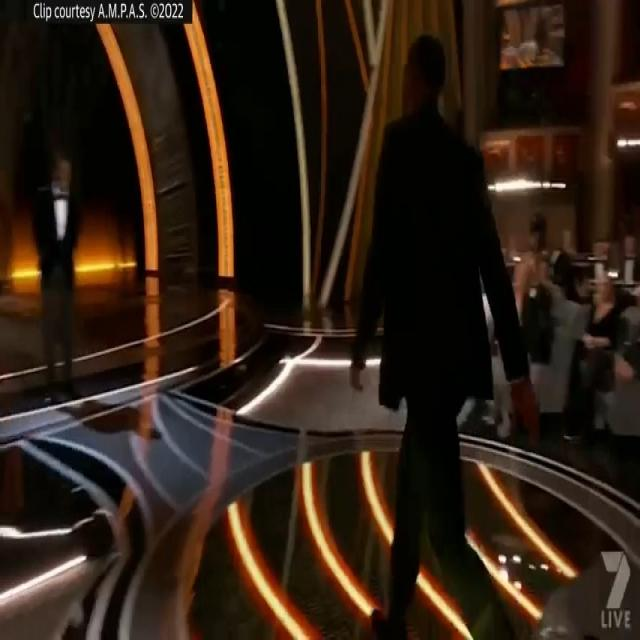non-fight: (339, 28, 539, 640), (31, 153, 84, 406)
